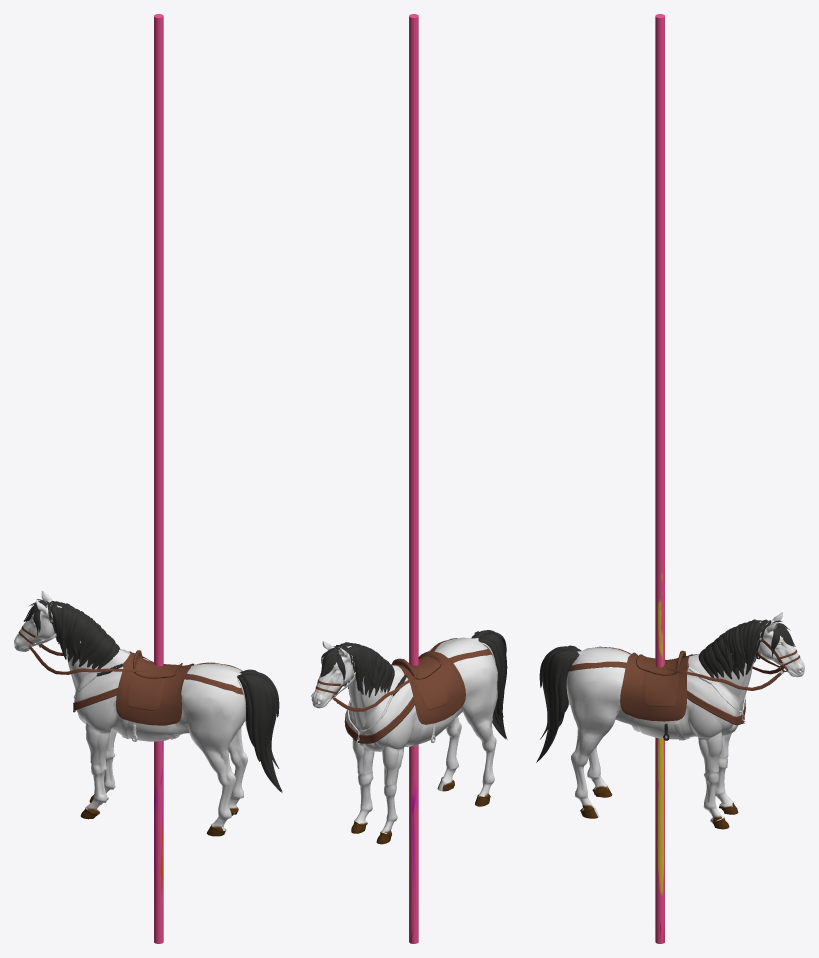
File: HorseUP.fbx
3 views of the same model, side by side, from view 1: azimuth 90°, elevation 25°; view 2: azimuth 150°, elevation 25°; view 3: azimuth 270°, elevation 25° (orthographic).
Parts seen in each view (by area): view 1: polySurface4427; view 2: polySurface4427; view 3: polySurface4427.
Part boxes in pixels (x1,y1,x2,y2): polySurface4427: (14,14,282,943); polySurface4427: (311,14,507,943); polySurface4427: (536,14,804,943).
Size of the model in its own units: 0.767 by 7.93 by 2.09.
